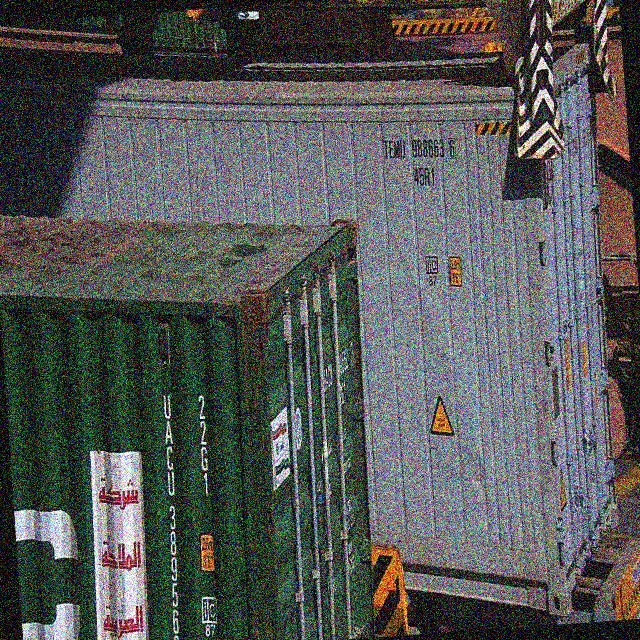Dent: (382, 203, 453, 369)
